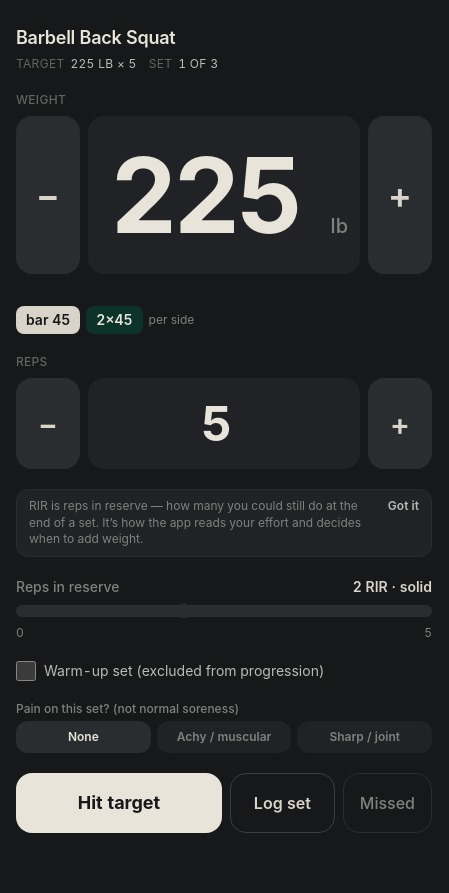
Scenario: LogSet screen › shows a visible confirmation on every logged set (POLISH.md §2 visual path)
Step 1. Click the button "Log set" → [282, 802], box [230,772,335,832]
(page scrolled)
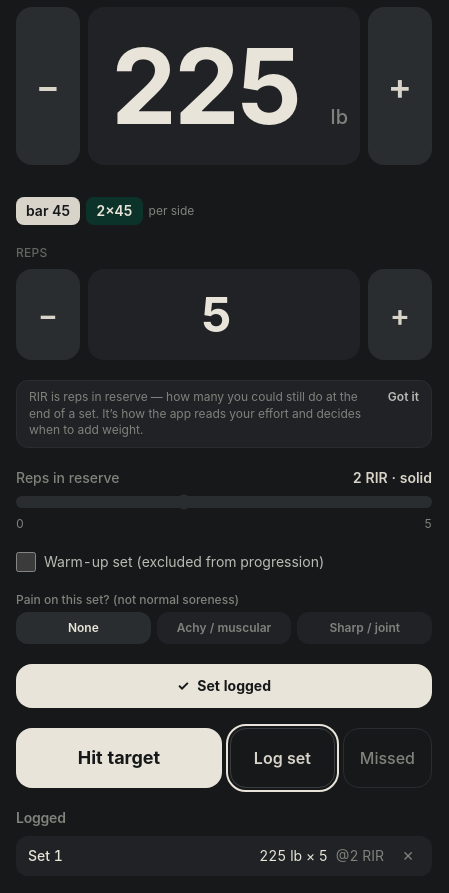
Now the message shows "Set logged", box [197,676,271,694]
